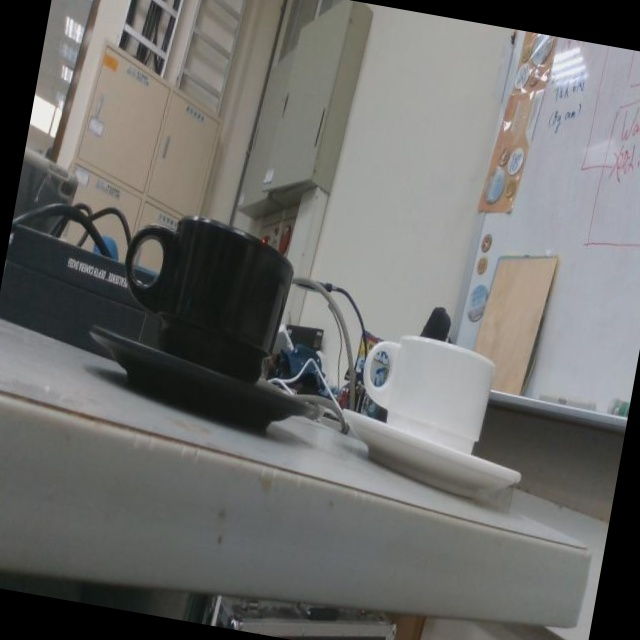black: (89, 212, 335, 430)
white: (340, 334, 533, 496)
